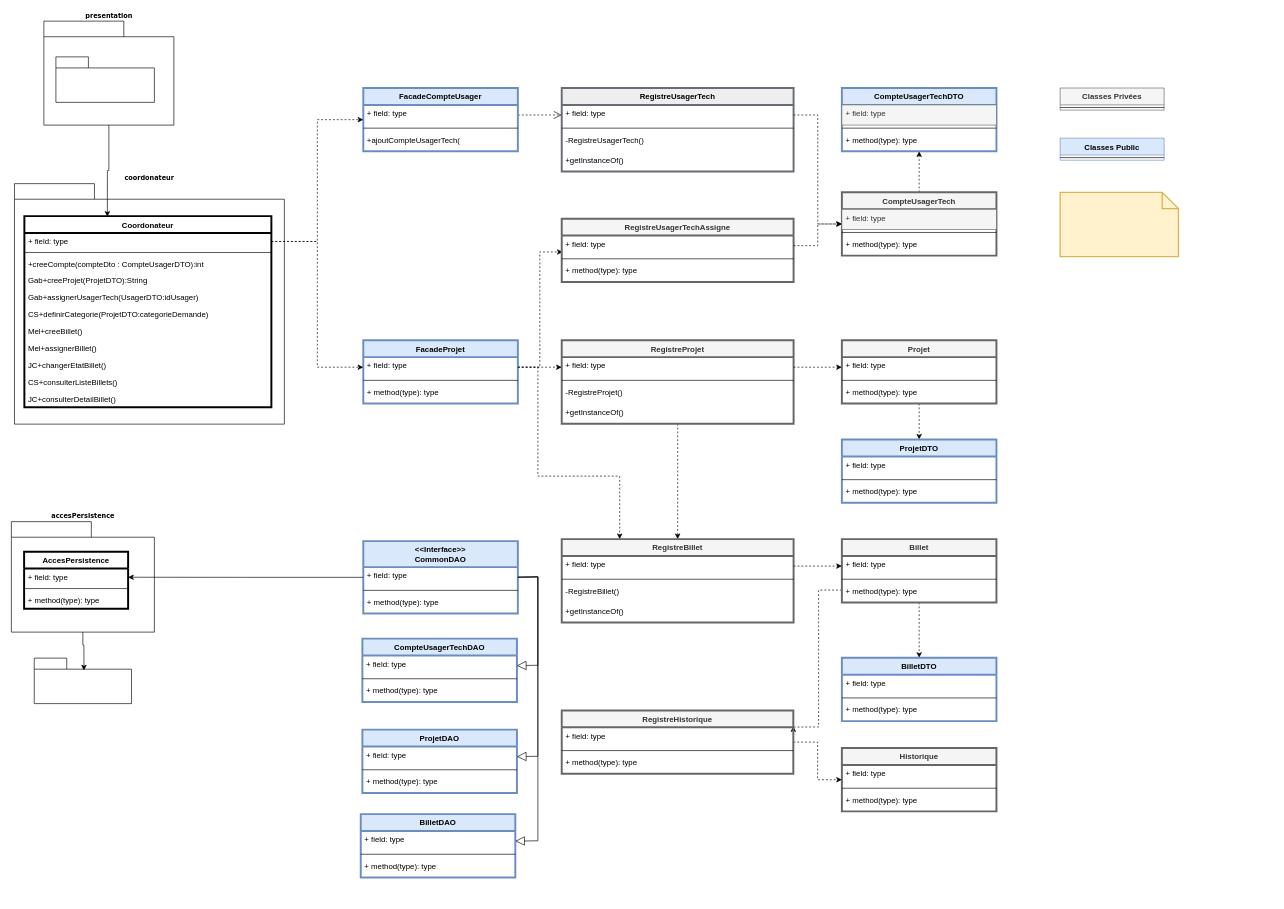
This 1284x909 diagram has some shape labels left out. The shapes that lost their labels are listed below. From the top down, each one's centre as x and y in pixels, then its label:
(x=104, y=79): SwingAppDesAnnées90
(x=1119, y=224): Singleton pour le registre UsagerTech, Projet et Billet
(x=82, y=680): persistence
